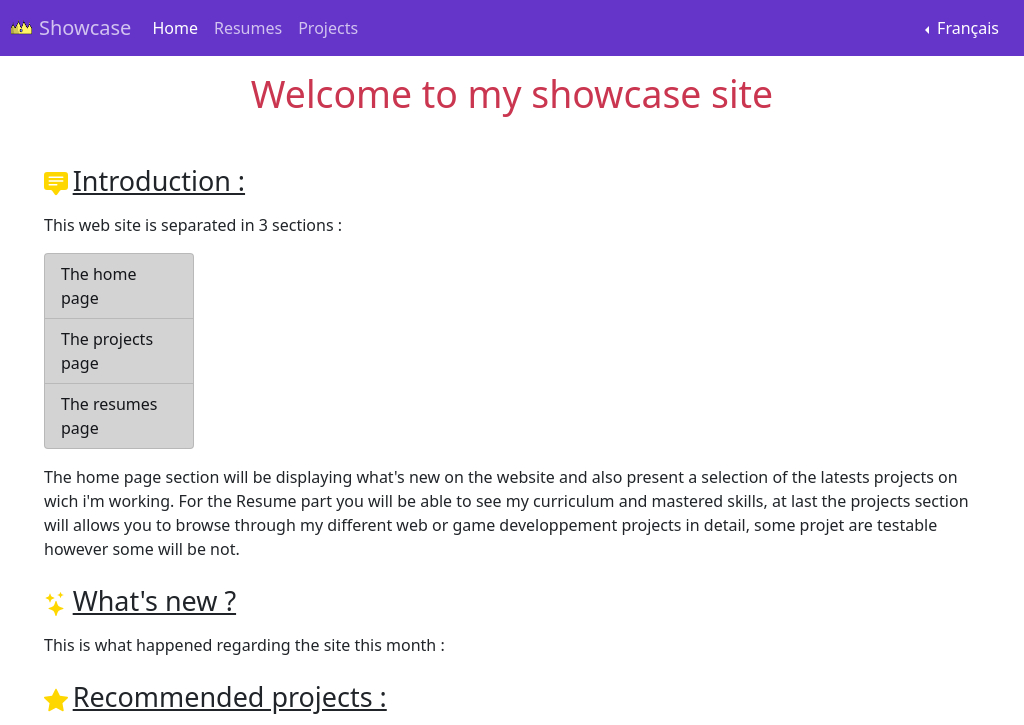
Test case: The Home page end to end test › Should navigate to the project page when clicking in the projects page link at the section list
The width and height of the screenshot is (1024, 725).
What coordinates should you click on to do the following:
click the link "The projects page"
I would click on:
 (119, 352)
Its box is [44,319,194,384].
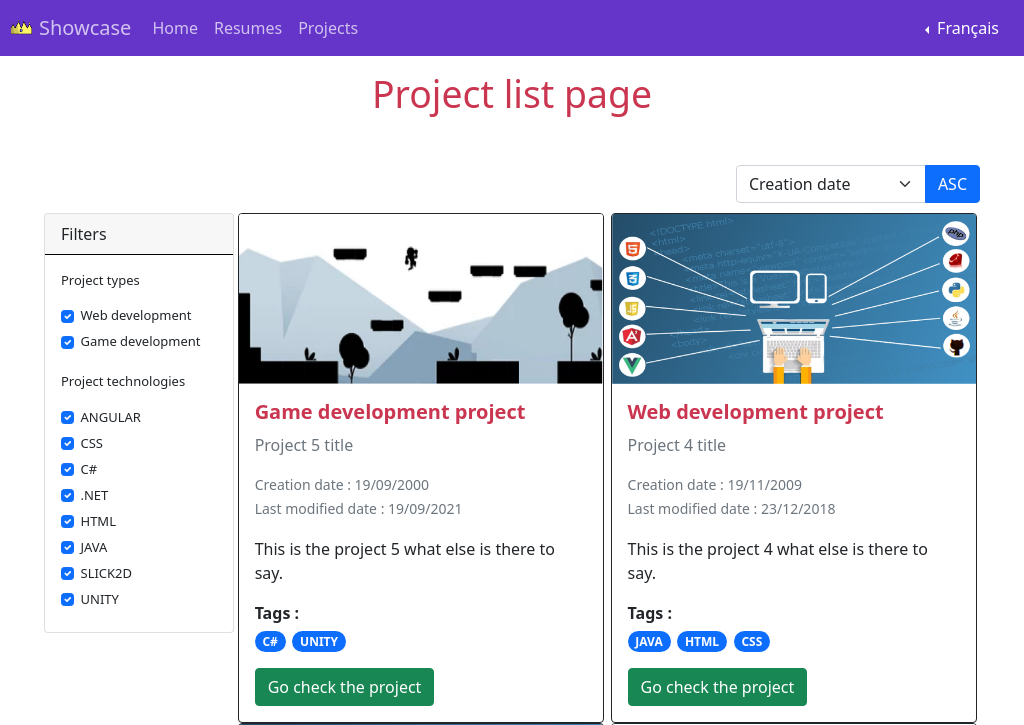
Expected: the heading "Project list page" is shown, [372,68,652,119]
